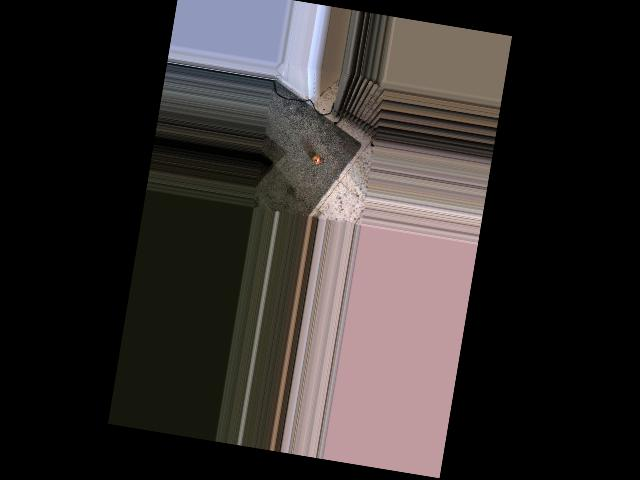onion: (311, 153, 322, 165)
